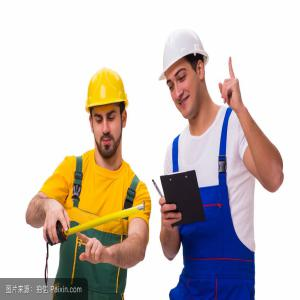white: (161, 24, 209, 124)
yellow: (83, 67, 133, 162)
